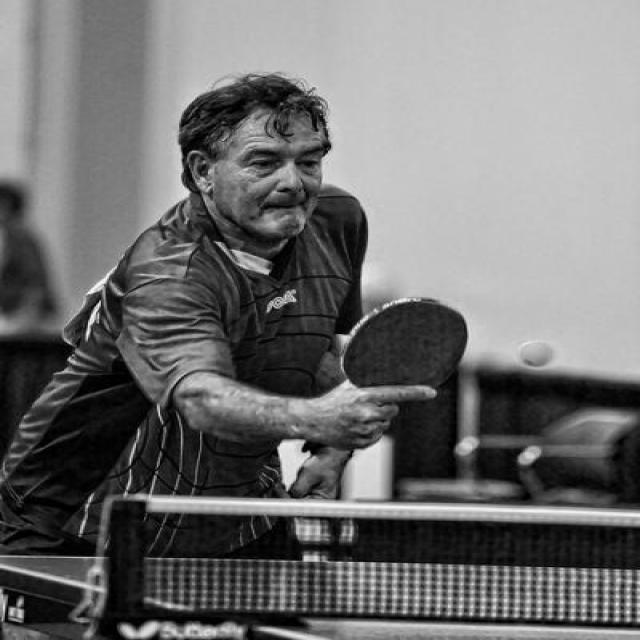ping-pong-ball: (516, 338, 558, 370)
